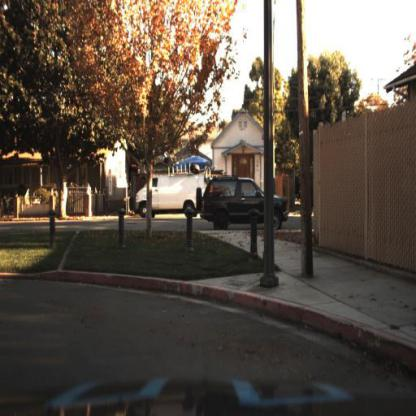car: (194, 173, 296, 231), (134, 163, 202, 222)
truck: (132, 168, 211, 216)
